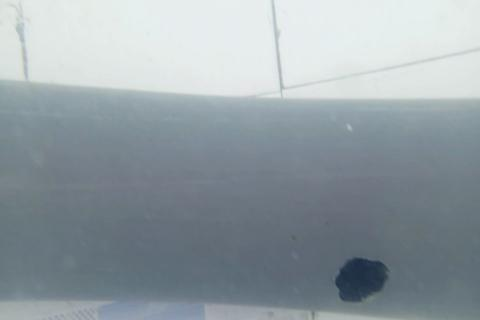kebocoran: (334, 255, 392, 302)
